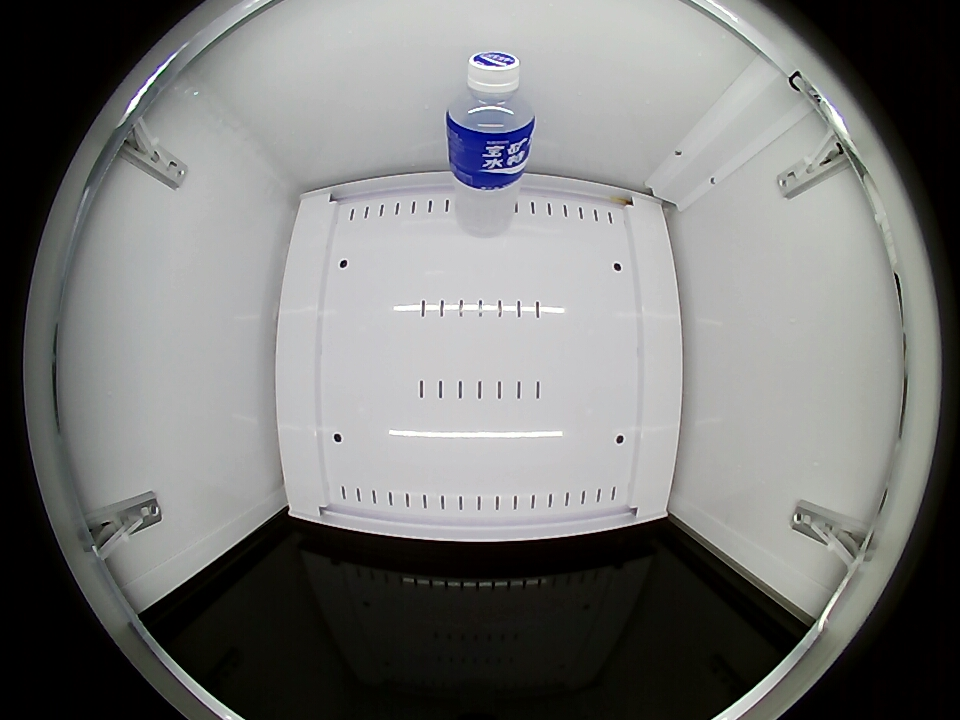baokuangli: (446, 51, 535, 154)
